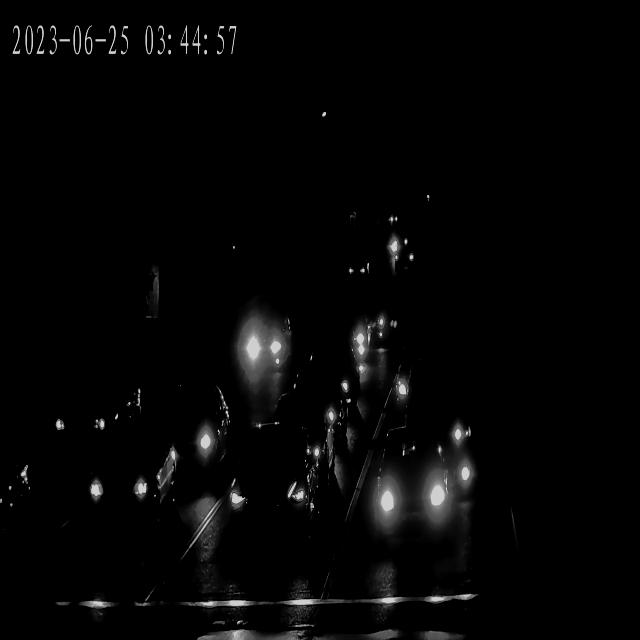Car: (218, 434, 320, 554), (78, 426, 178, 544), (399, 361, 476, 504), (37, 370, 144, 460), (143, 386, 231, 488), (369, 454, 455, 548), (268, 390, 336, 482), (306, 346, 360, 444), (324, 288, 374, 381), (403, 400, 469, 460), (352, 271, 400, 353), (0, 451, 36, 541), (233, 318, 289, 374), (385, 218, 416, 263)
